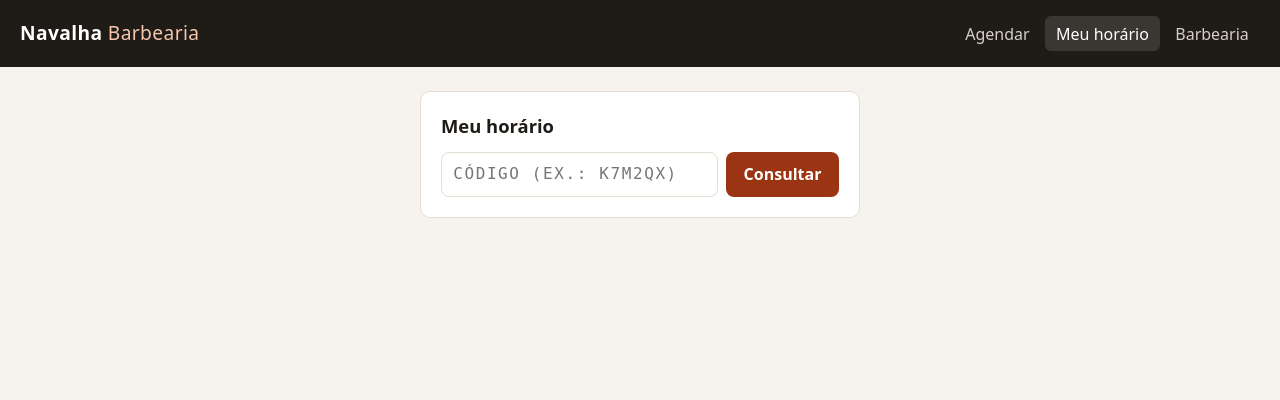
Scenario: meu horário › consulta pelo código e cancela
Step 1. Type "k7m2qx" into the field named "Código do agendamento" → [580, 174], box [441,152,718,197]
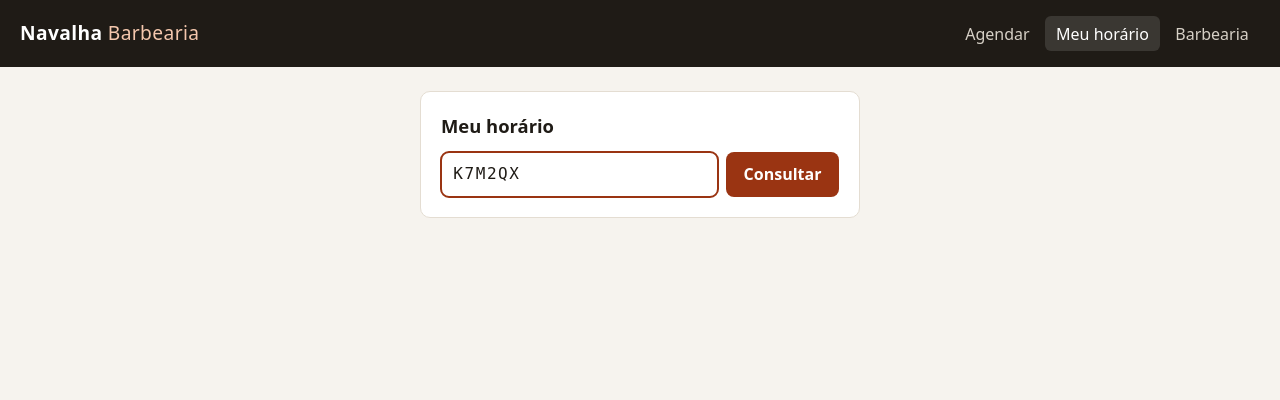
Step 2. Click the button "Consultar" → [782, 174], box [726,152,839,197]
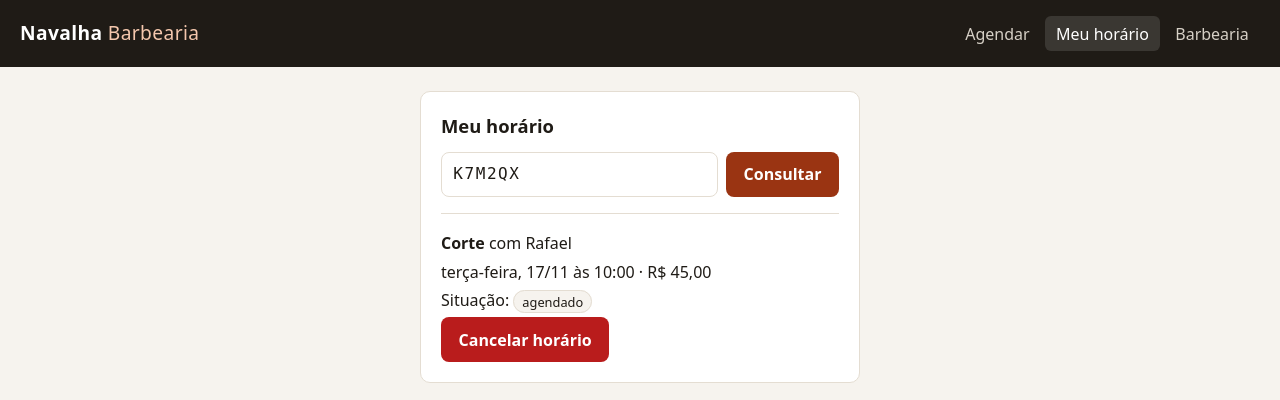
Check: the text "terça-feira, 17/11 às 10:00 · R$ 45,00" is shown, box [441,261,712,283]
Step 3. Click the button "Cancelar horário" → [525, 340], box [441,317,609,362]
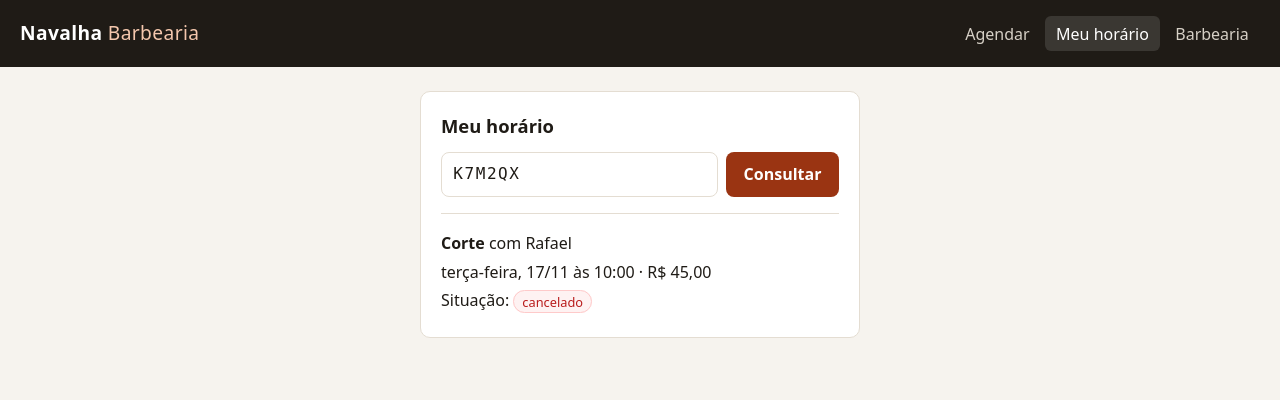
Check: the text "cancelado" is shown, box [513,290,592,313]
Check: the button "Cancelar horário" is gone
